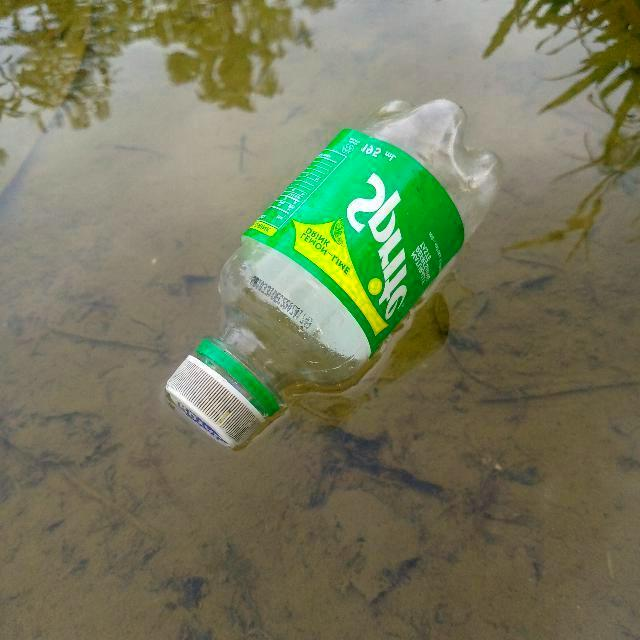Plastic: (162, 92, 506, 450)
